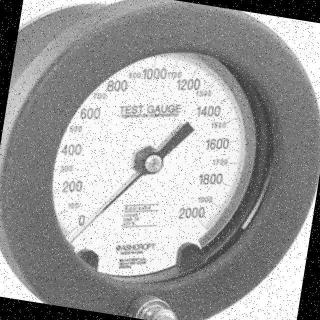gauge: (0, 0, 320, 320), (181, 199, 222, 244), (63, 220, 95, 255), (139, 150, 167, 177), (64, 230, 84, 250)
